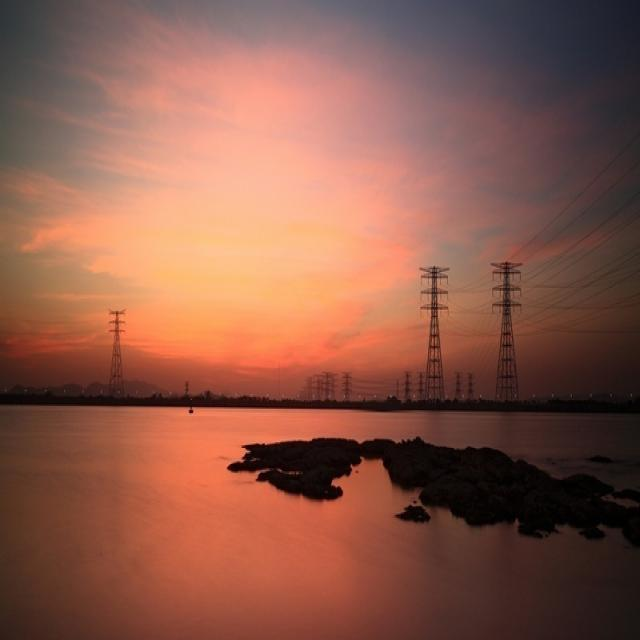non-critical vegetation: (415, 252, 455, 418), (490, 253, 528, 407), (92, 287, 130, 397)
